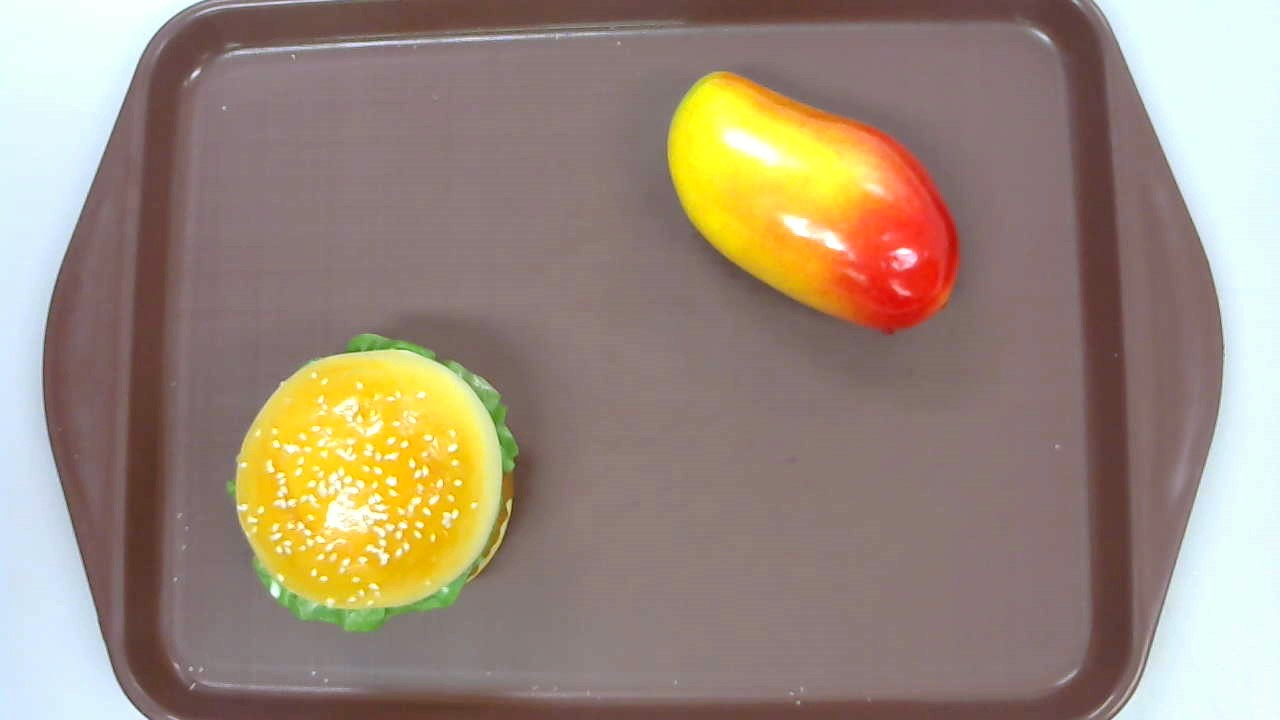hamburger: (226, 332, 520, 633)
red mango: (665, 71, 960, 336)
